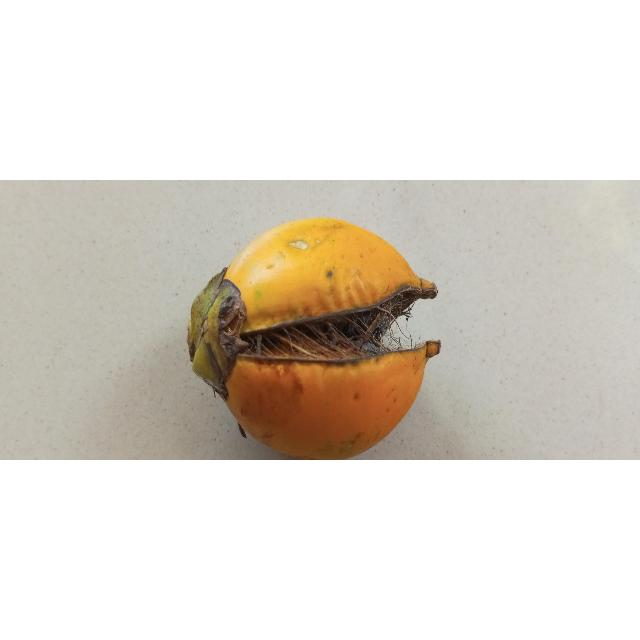damaged: (187, 218, 441, 461)
